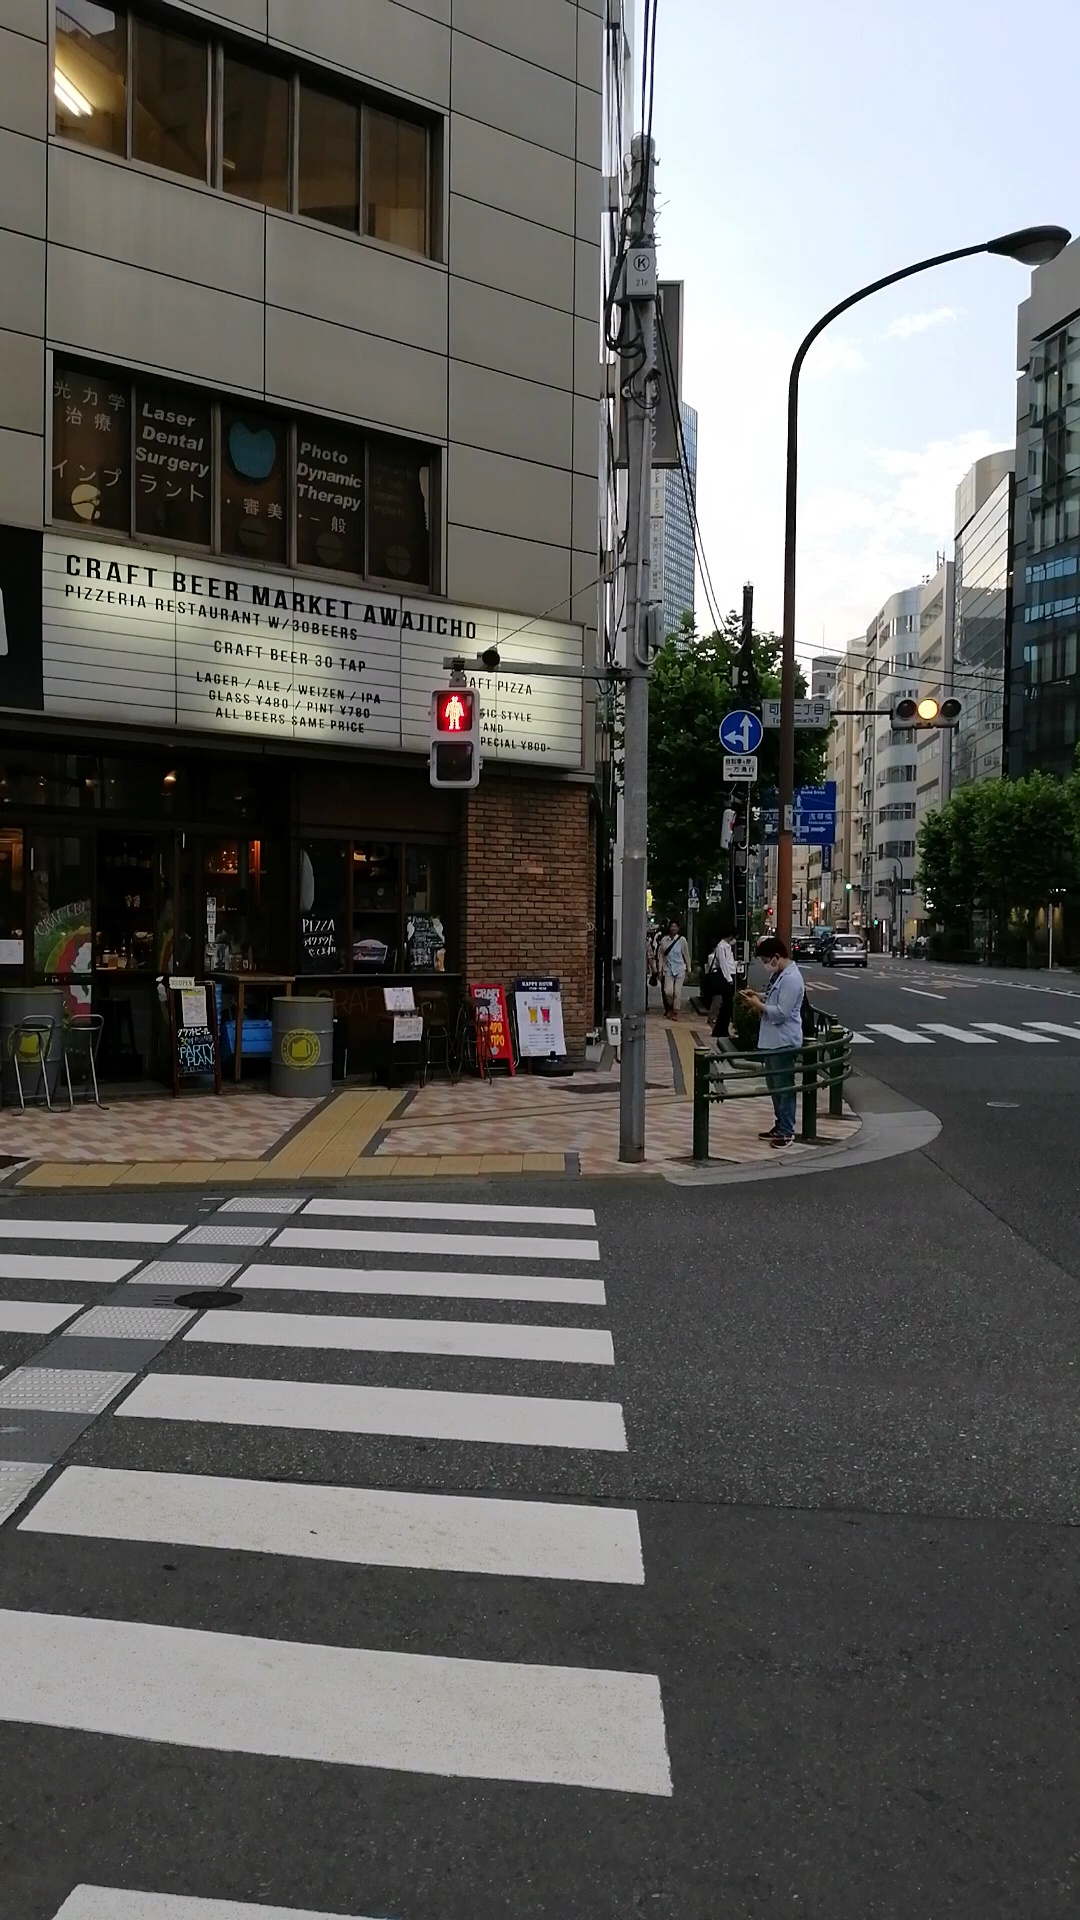red: (430, 687, 480, 789)
